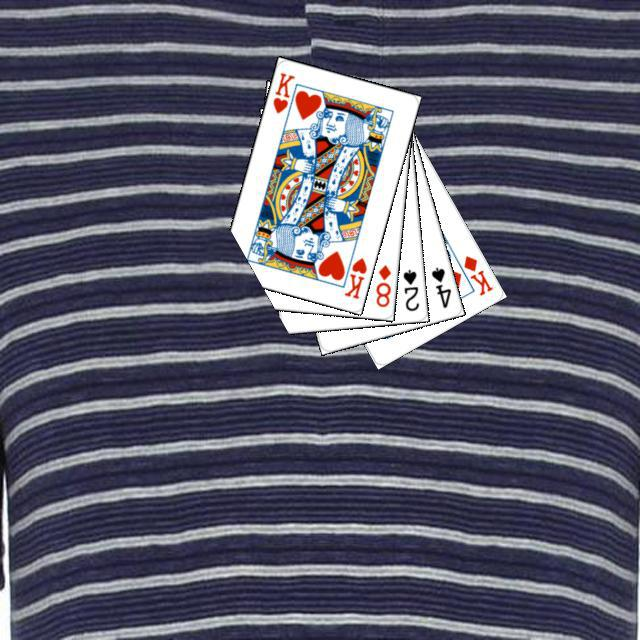2s: (398, 265, 421, 313)
4s: (426, 262, 453, 310)
8d: (371, 260, 393, 308)
Kd: (458, 250, 495, 297)
Kh: (335, 246, 368, 301), (268, 67, 296, 115)
